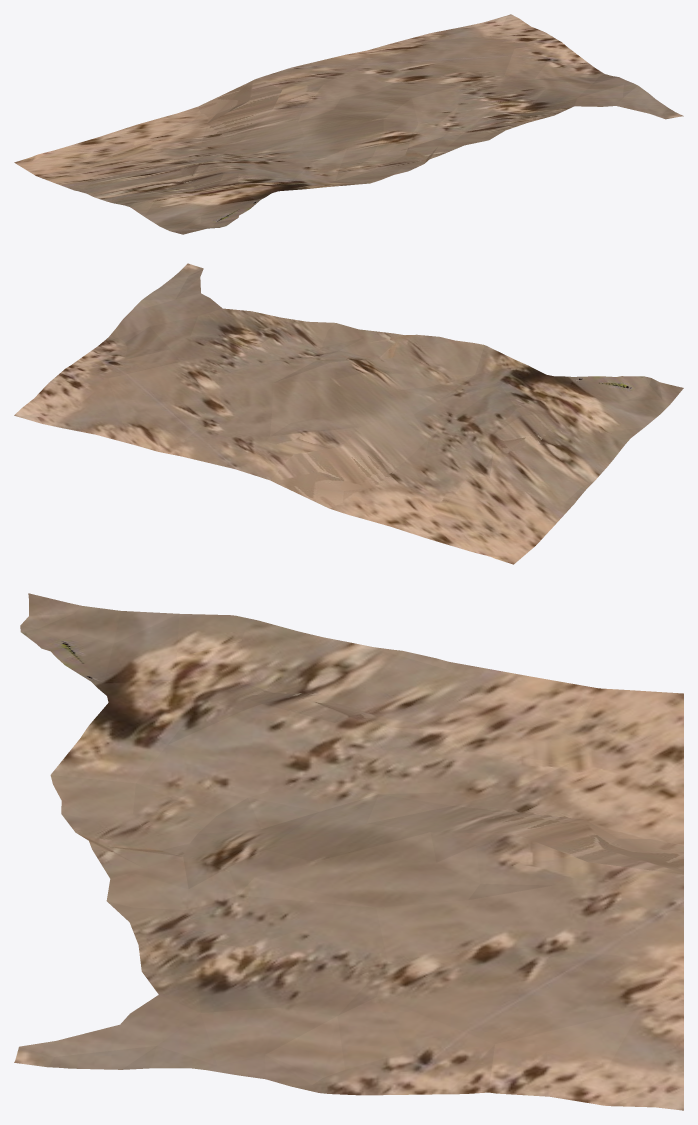
3 views of the same model, one above another, from view 1: azimuth 30°, elevation 25°; view 2: azimuth 150°, elevation 25°; view 3: azimuth 270°, elevation 25° (orthographic). The views are drawn at different scales.
Bounding box in the file's own units: 1.04 × 0.104 × 0.6298.
Materials: 1 (1 with a texture image).
